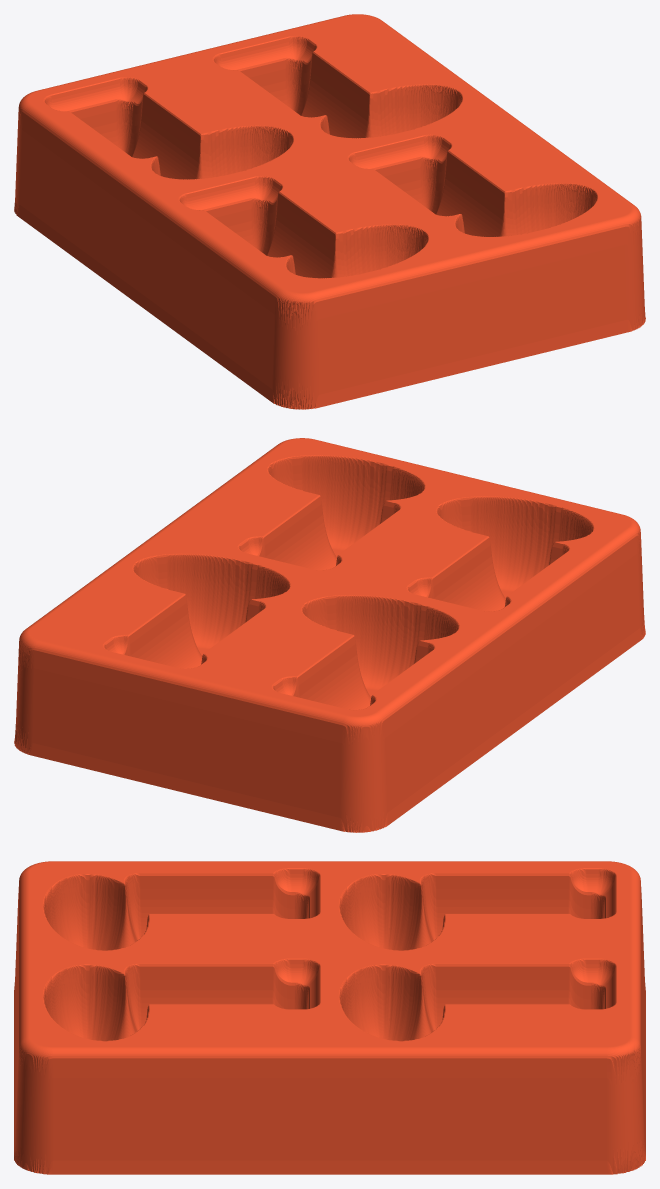
Rendered from mold.glb.
3 views of the same model, one above another, from view 1: azimuth 30°, elevation 25°; view 2: azimuth 150°, elevation 25°; view 3: azimuth 270°, elevation 25° (orthographic). The views are drawn at different scales.
Parts seen in each view (by area): view 1: geometry_0; view 2: geometry_0; view 3: geometry_0.
Part boxes in pixels (bbox=[...]): geometry_0: bbox=[14, 14, 645, 409]; geometry_0: bbox=[14, 438, 645, 832]; geometry_0: bbox=[14, 861, 645, 1174].
Bounding box in the file's own units: 0.1086 × 0.031 × 0.1466.
